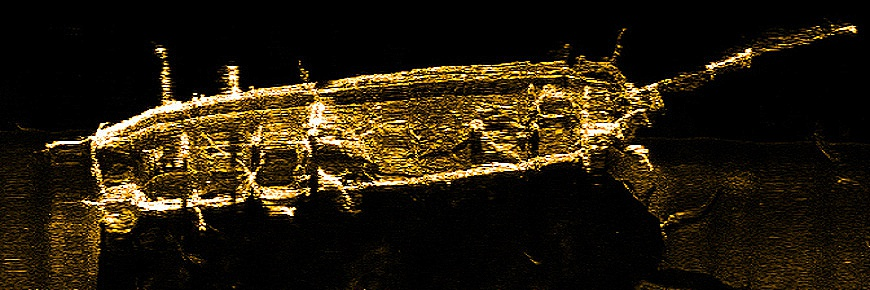ship: (43, 20, 858, 236)
